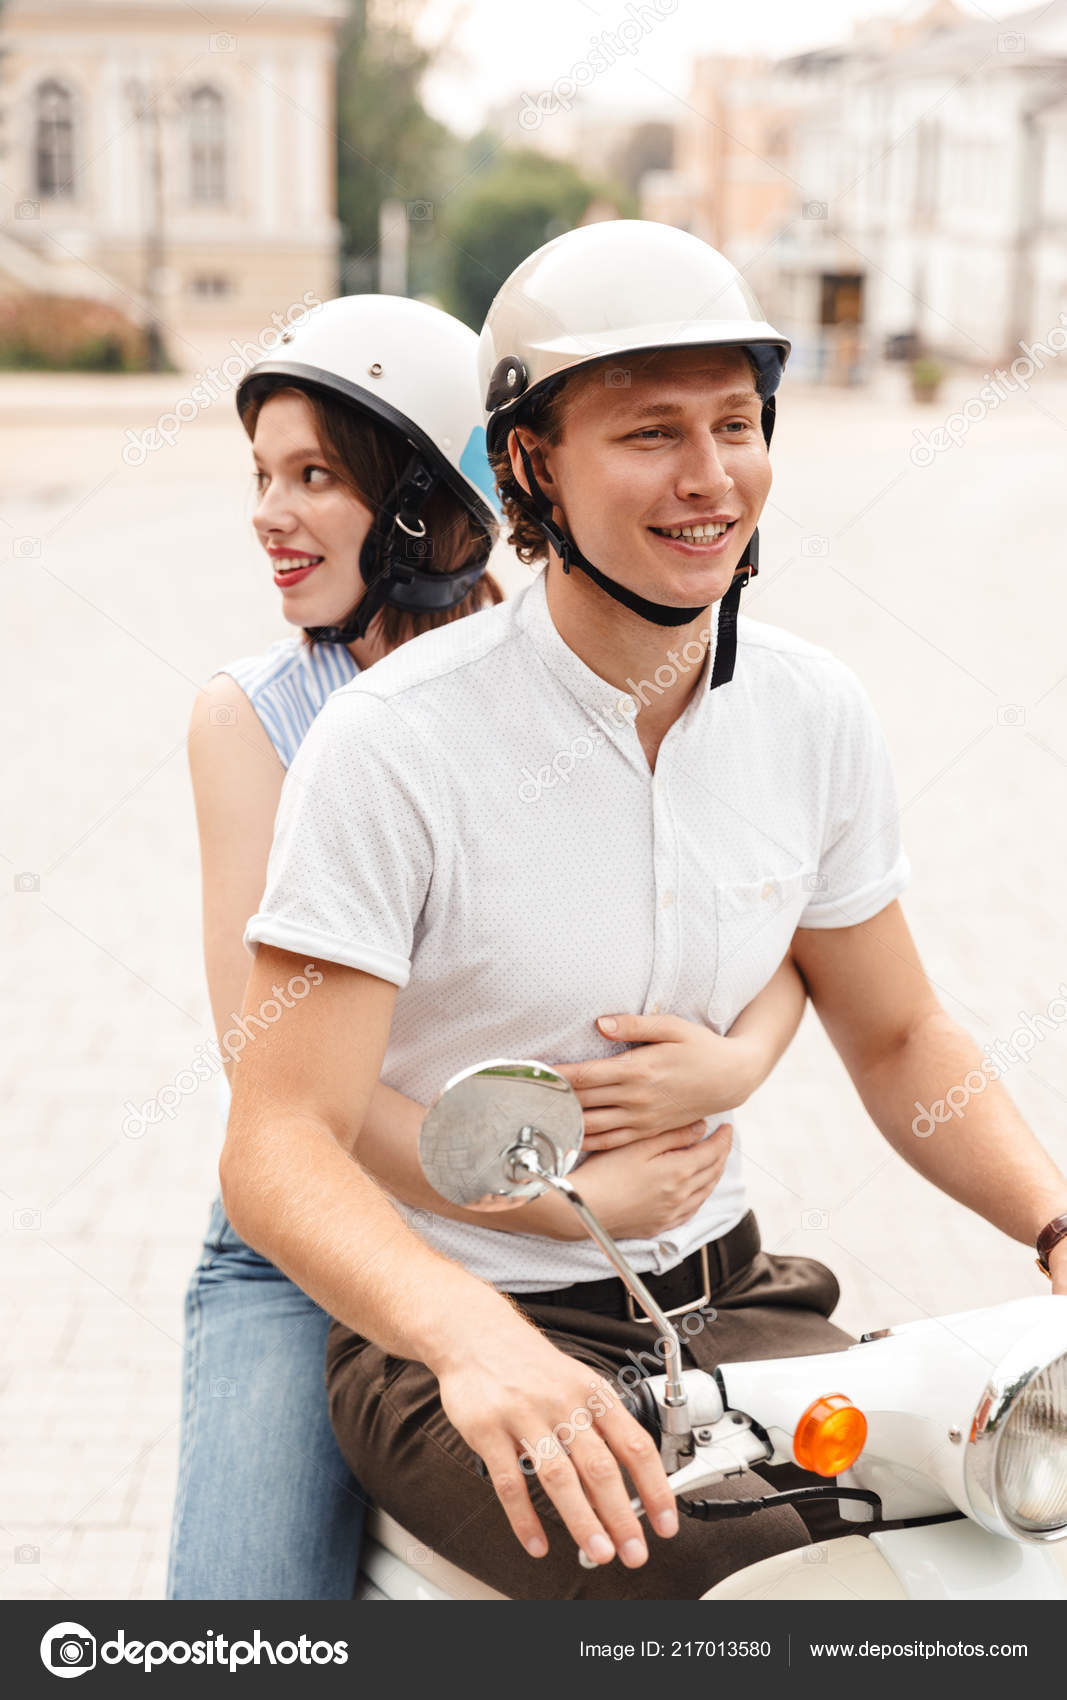helmet: (250, 269, 506, 498), (459, 224, 808, 372)
